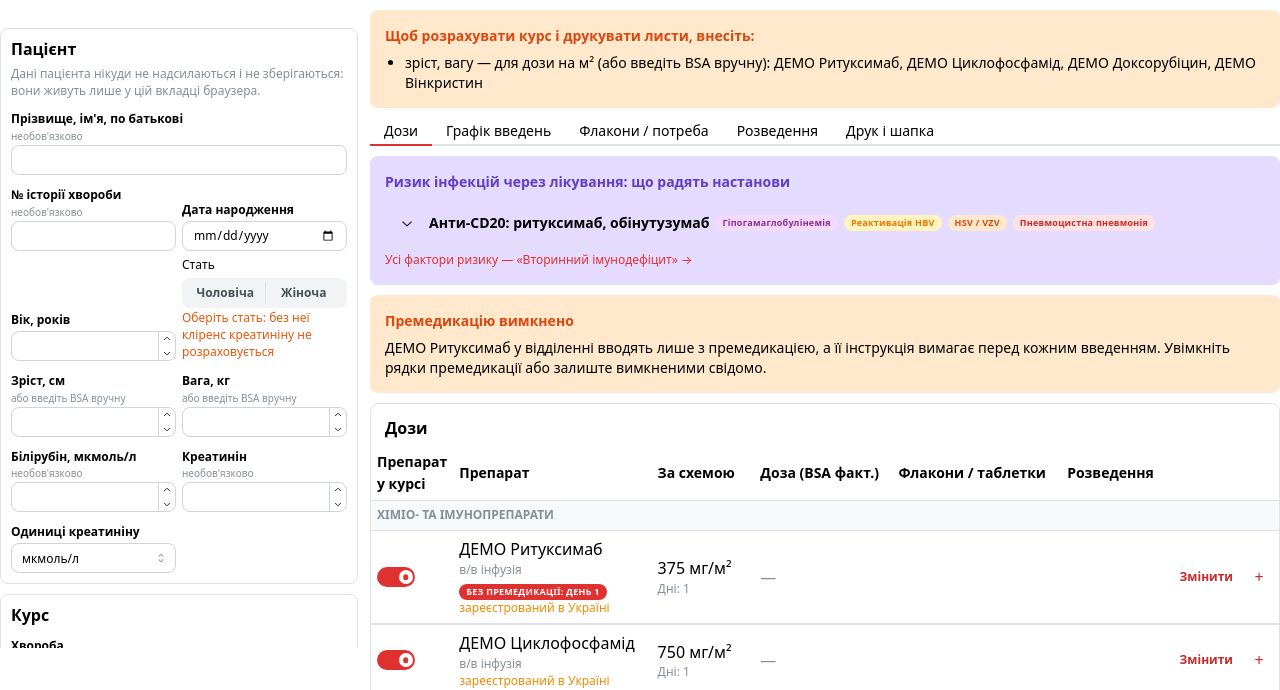
it: CalculatorPage › shows the calculation chain for a dose
In the field labelled "Вік, років": (94, 346) 11,331 -> 176,361, type "60"
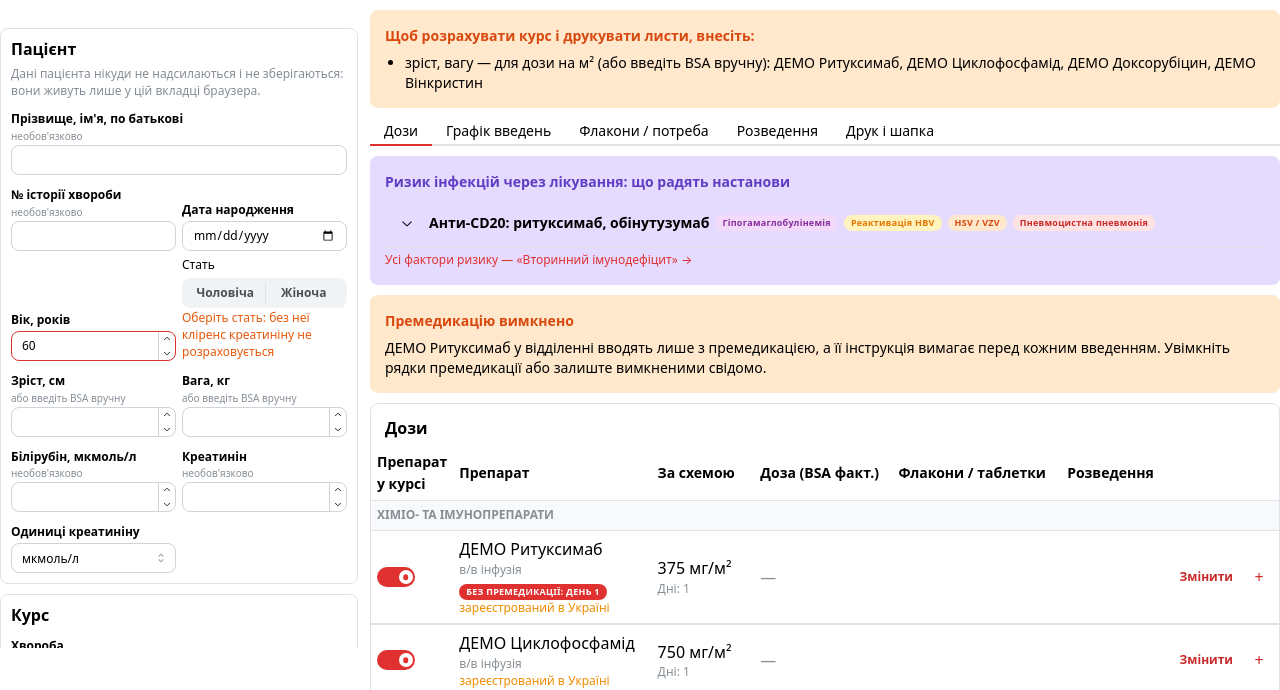
In the field labelled "Зріст, см": (94, 422) 11,407 -> 176,437, type "180"
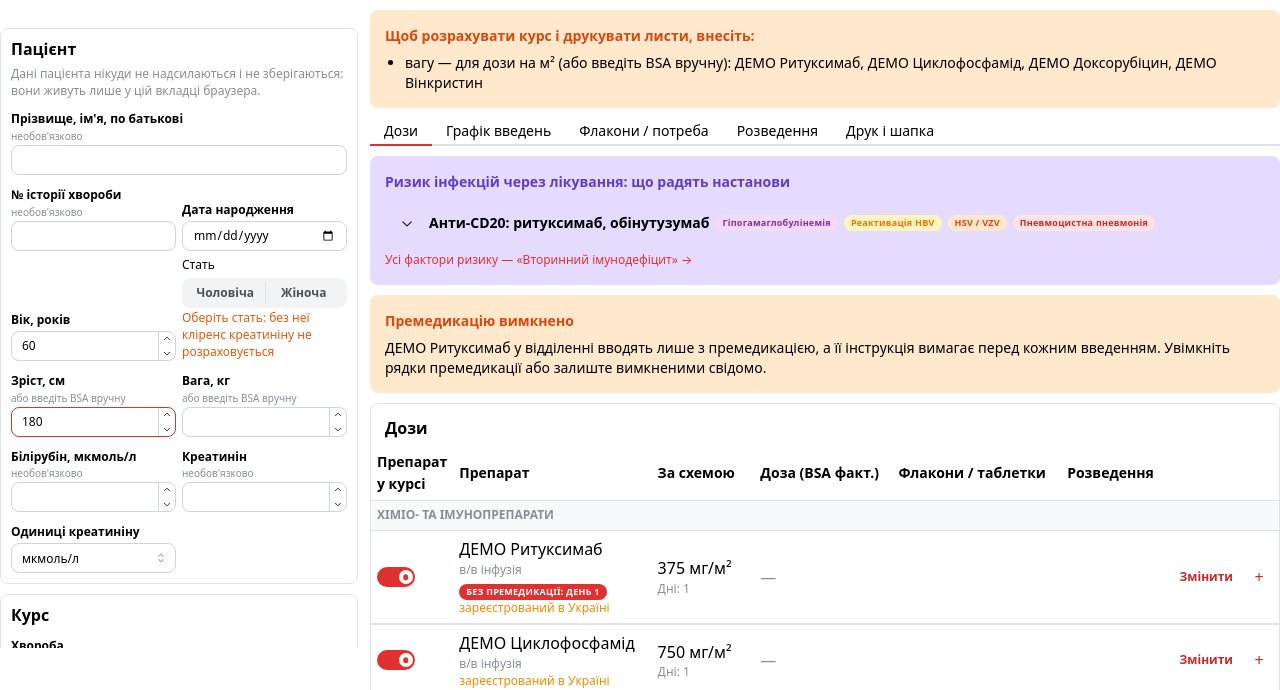
In the field labelled "Вага, кг": (264, 422) 182,407 -> 347,437, type "80"
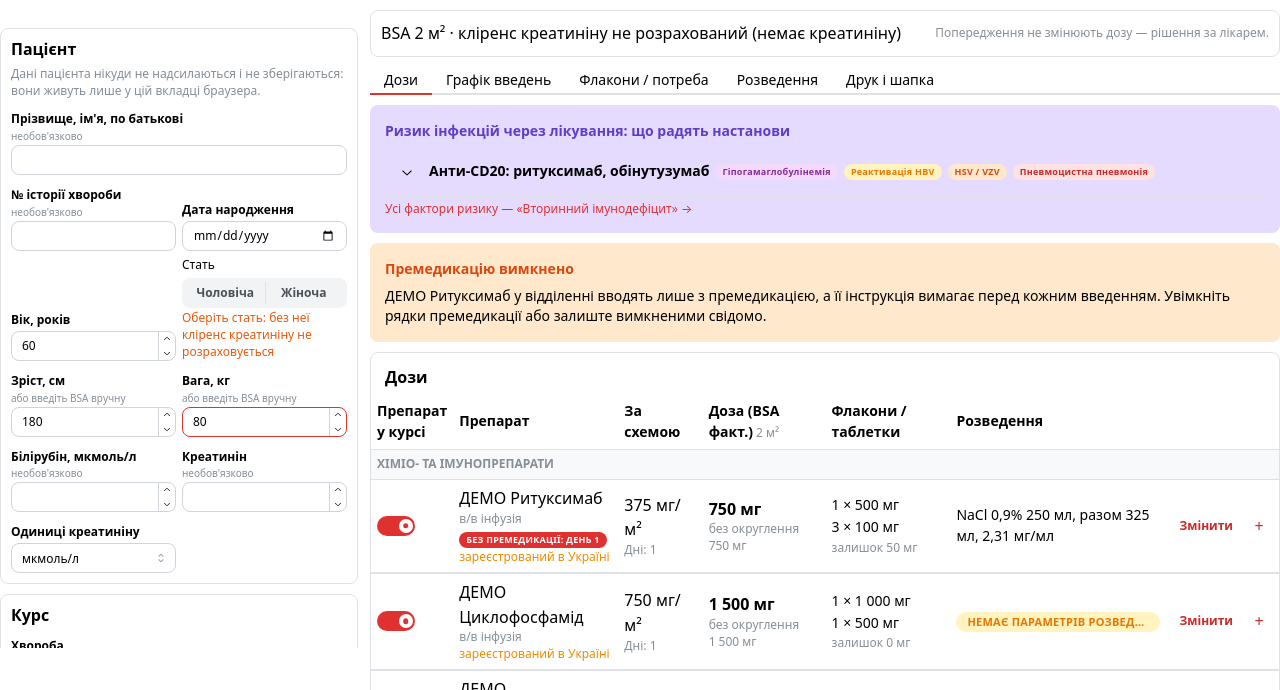
In the field labelled "Креатинін": (264, 497) 182,482 -> 347,512, type "88,4"
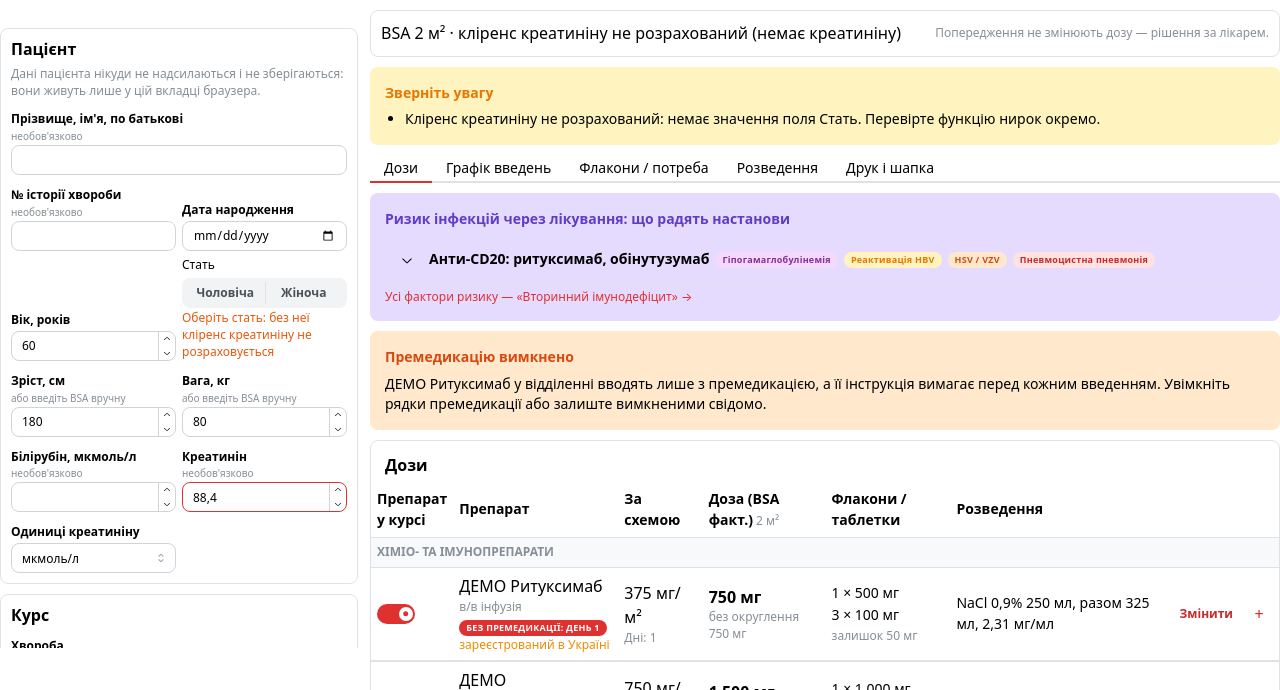
Click the text "Чоловіча": click(225, 292) 196,284 -> 254,301
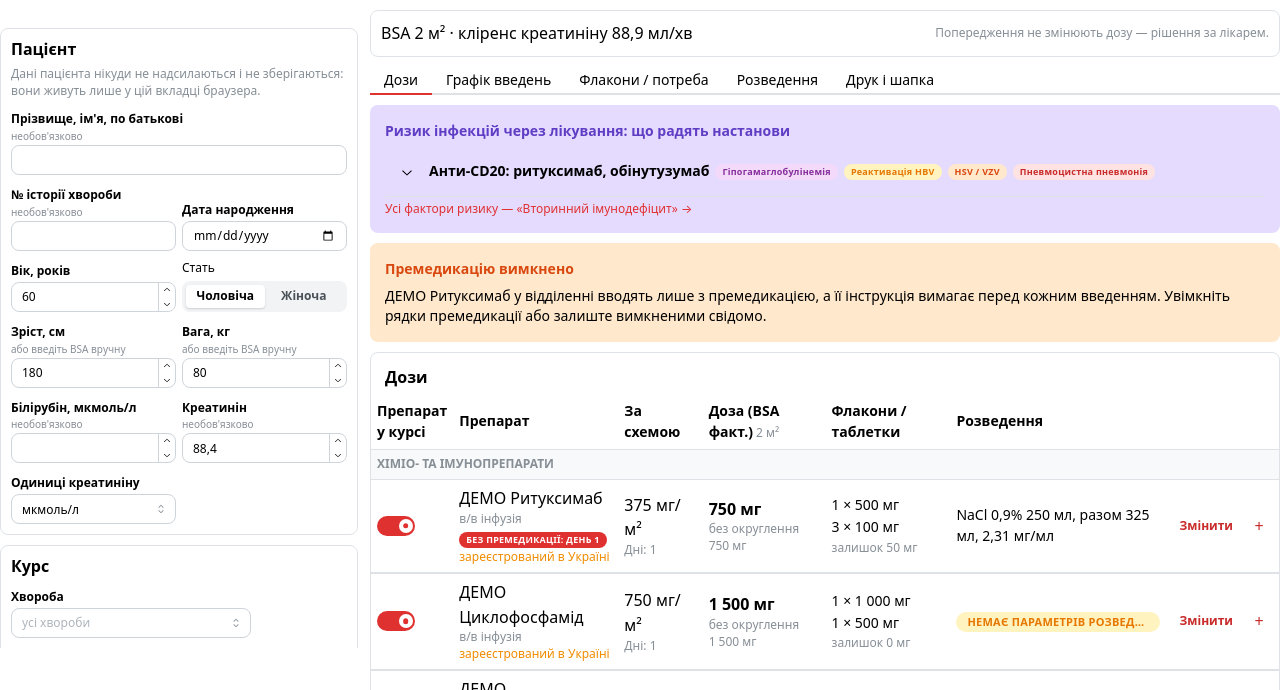
Click the button named "Як порахували": click(1259, 526) 1245,512 -> 1273,540
(page scrolled)
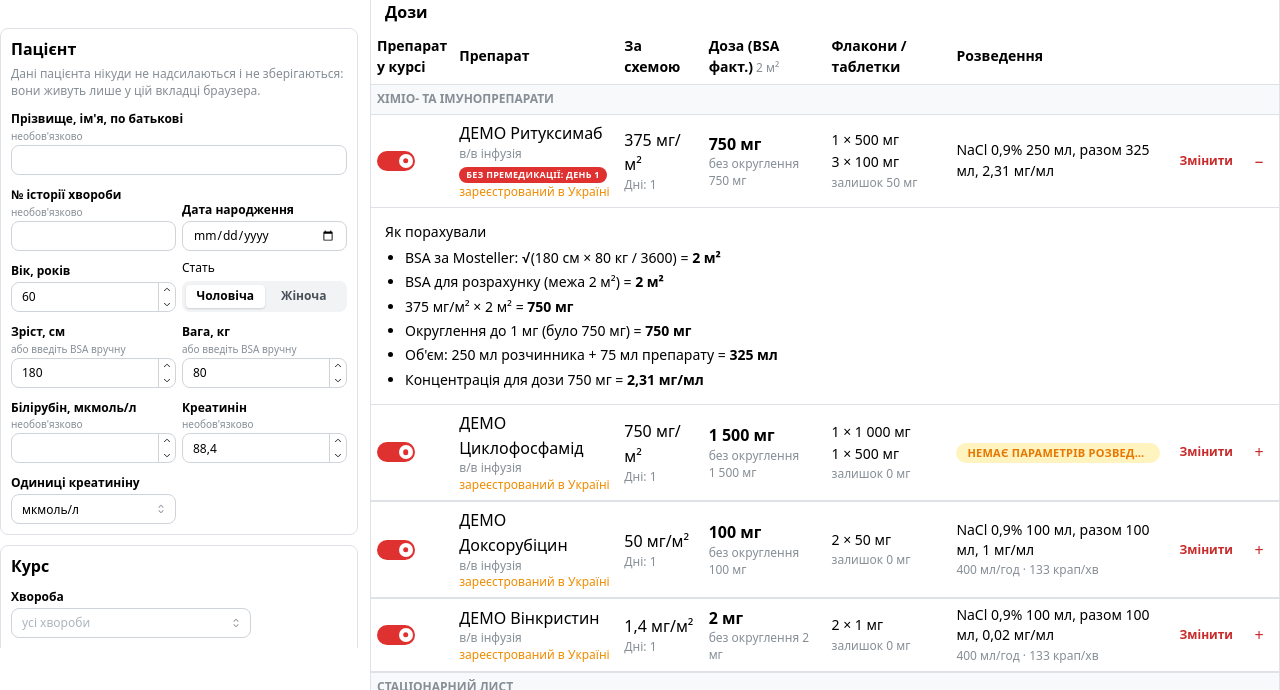
Check: the text "BSA за Mosteller: √(180 см × 80 кг / 3600) =" is shown, box 405,248 -> 692,267
Check: the text "375 мг/м² × 2 м² =" is shown, box 405,297 -> 527,316
Check: the text "Округлення до 1 мг (було 750 мг) =" is shown, box 405,321 -> 645,340
